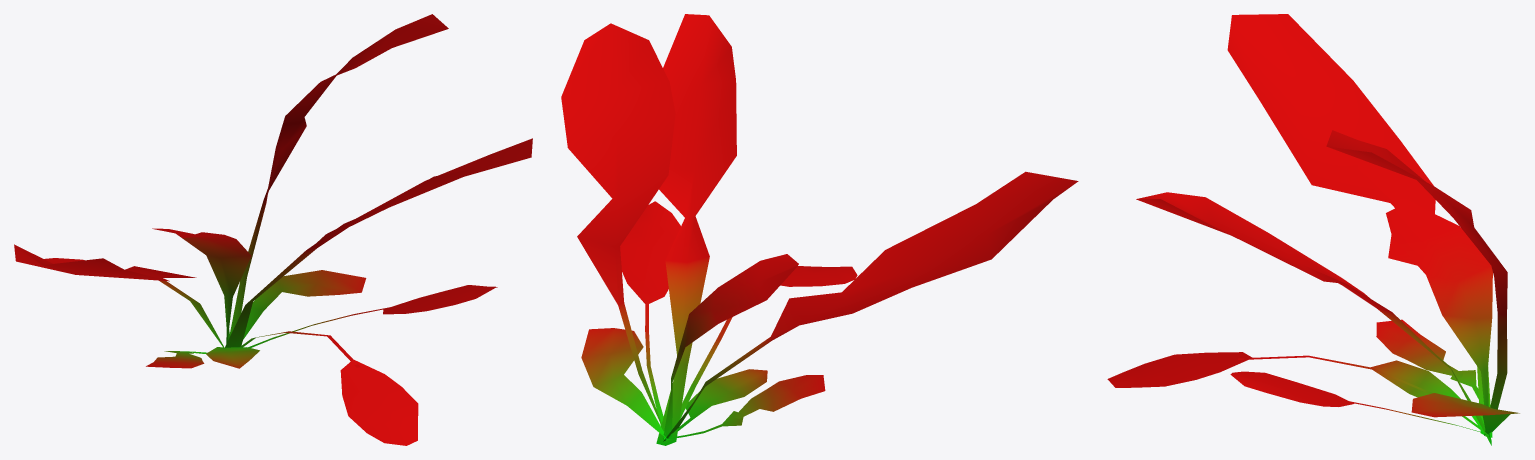
Rendered from Var17_LOD1.fbx.
The picture shows the model from 3 angles, left to right: view 1: azimuth 30°, elevation 25°; view 2: azimuth 150°, elevation 25°; view 3: azimuth 270°, elevation 25°; orthographic projection. The views are drawn at different scales.
Visible parts, largest first — view 1: _5ks8_Var17_LOD1; view 2: _5ks8_Var17_LOD1; view 3: _5ks8_Var17_LOD1.
Part boxes in pixels (box(x1,y1,x2,y2)): _5ks8_Var17_LOD1: box(14, 14, 532, 445); _5ks8_Var17_LOD1: box(561, 14, 1078, 445); _5ks8_Var17_LOD1: box(1107, 14, 1519, 445).
Bounding box in the file's own units: 23.46 × 17.31 × 17.82.
